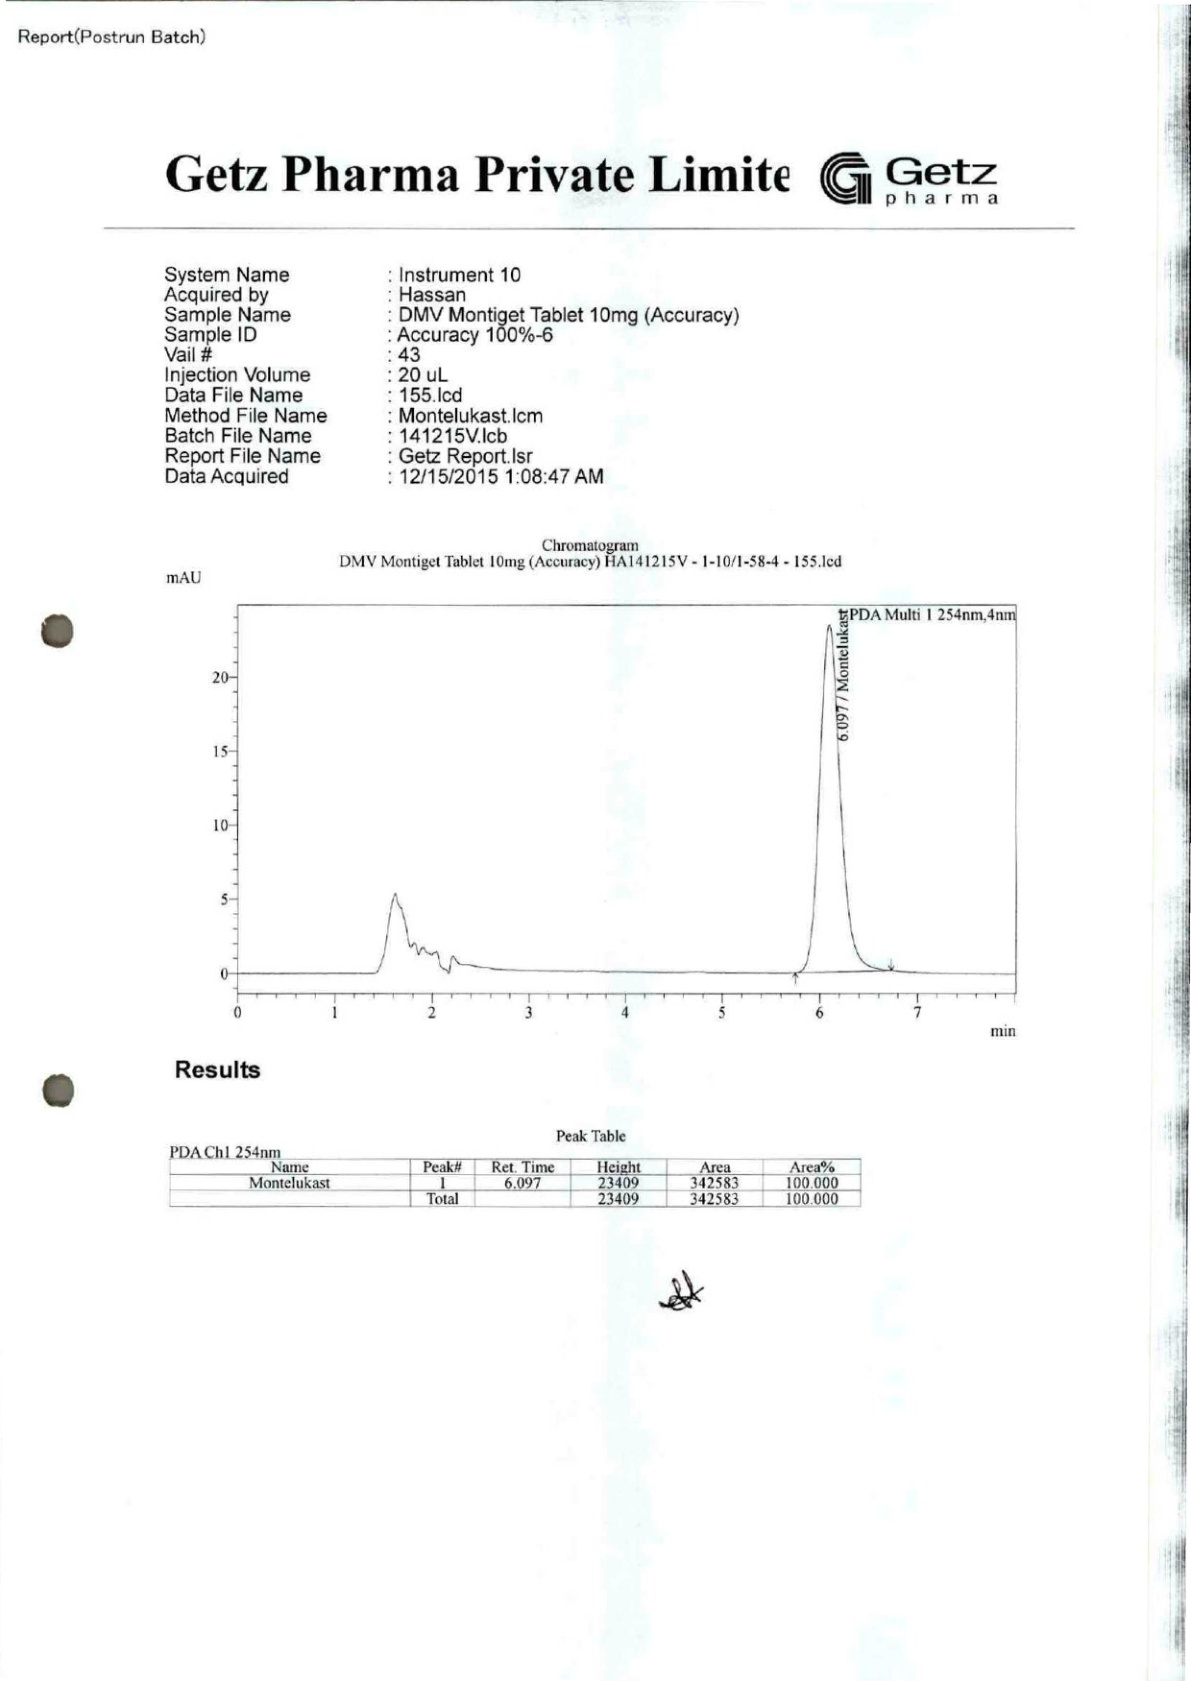full_lined: (168, 1156, 864, 1209)
nolines: (159, 262, 741, 489)
